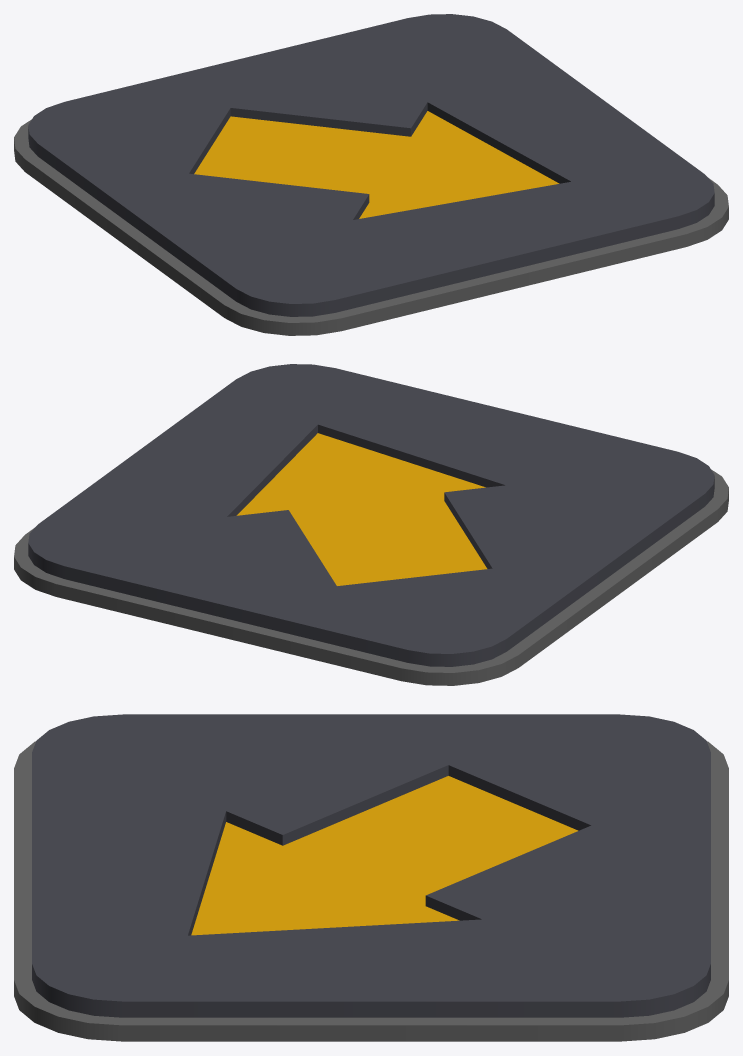
Rendered from Jump_Platform_45.fbx.
3 renders of one model, top to bottom at view 1: azimuth 30°, elevation 25°; view 2: azimuth 150°, elevation 25°; view 3: azimuth 270°, elevation 25°, orthographic. The views are drawn at different scales.
Parts seen in each view (by area): view 1: Jump_Platform_45; view 2: Jump_Platform_45; view 3: Jump_Platform_45.
Part boxes in pixels (left/top/right/bottom): Jump_Platform_45: left=14, top=14, right=728, bottom=335; Jump_Platform_45: left=14, top=364, right=728, bottom=685; Jump_Platform_45: left=14, top=714, right=728, bottom=1041.
Bounding box in the file's own units: 4 × 4 × 0.2.
